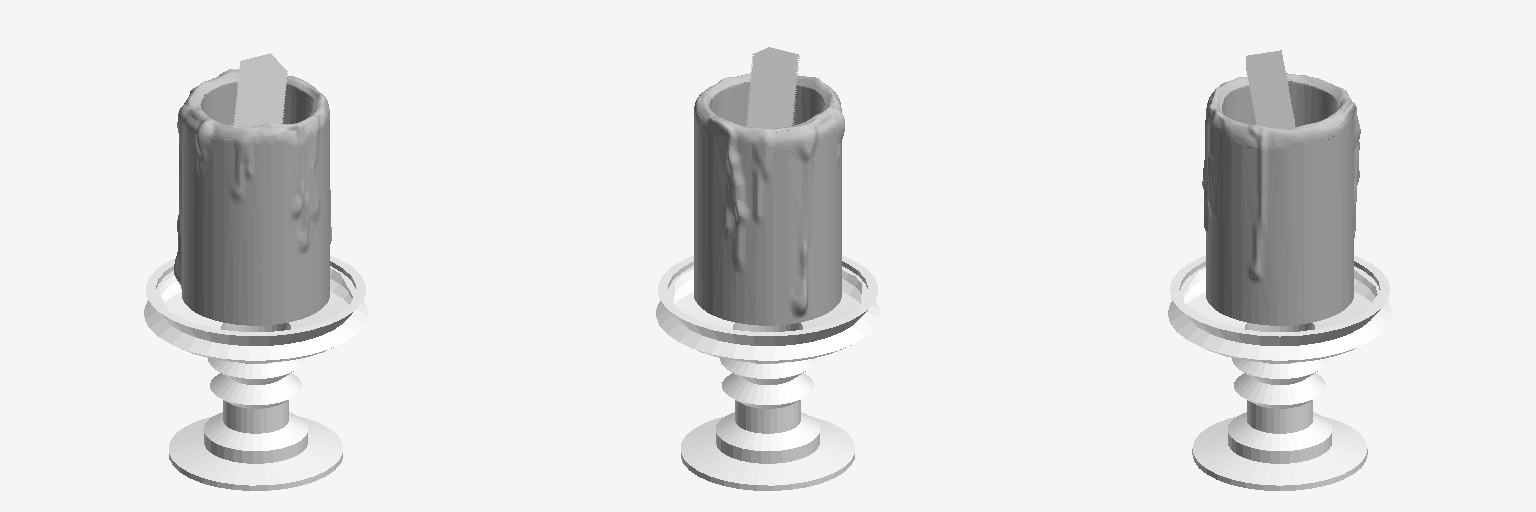
Rendered from candle.obj.
3 renders of one model, left to right at view 1: azimuth 30°, elevation 25°; view 2: azimuth 150°, elevation 25°; view 3: azimuth 270°, elevation 25°, orthographic.
Visible parts, largest first — view 1: Candle_Cylinder, CandleHaloder_Circle.001, Flame_Plane; view 2: Candle_Cylinder, CandleHaloder_Circle.001, Flame_Plane; view 3: Candle_Cylinder, CandleHaloder_Circle.001, Flame_Plane.
Boxes of the visible parts, x1=… form: Candle_Cylinder: x1=174, y1=69, x2=331, y2=325; CandleHaloder_Circle.001: x1=144, y1=256, x2=367, y2=490; Flame_Plane: x1=233, y1=53, x2=287, y2=126; Candle_Cylinder: x1=694, y1=73, x2=844, y2=325; CandleHaloder_Circle.001: x1=656, y1=255, x2=879, y2=490; Flame_Plane: x1=746, y1=47, x2=799, y2=128; Candle_Cylinder: x1=1202, y1=73, x2=1360, y2=325; CandleHaloder_Circle.001: x1=1168, y1=255, x2=1391, y2=490; Flame_Plane: x1=1246, y1=50, x2=1295, y2=128.
Bounding box in the file's own units: 3.89 × 7.58 × 3.89.